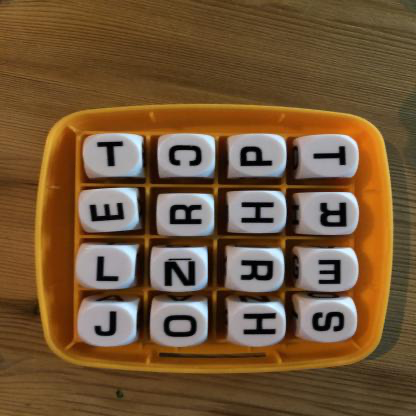c: (160, 136, 215, 177)
e: (302, 250, 358, 291), (80, 191, 136, 231)
h: (229, 304, 287, 346), (229, 193, 285, 235)
j: (79, 304, 135, 347)
l: (78, 246, 134, 290)
n: (150, 248, 207, 291)
o: (151, 304, 209, 346)
p: (229, 136, 285, 178)
r: (157, 195, 216, 236), (302, 193, 358, 235), (228, 249, 284, 291)
s: (300, 300, 358, 343)
t: (84, 136, 141, 179), (302, 136, 359, 178)
